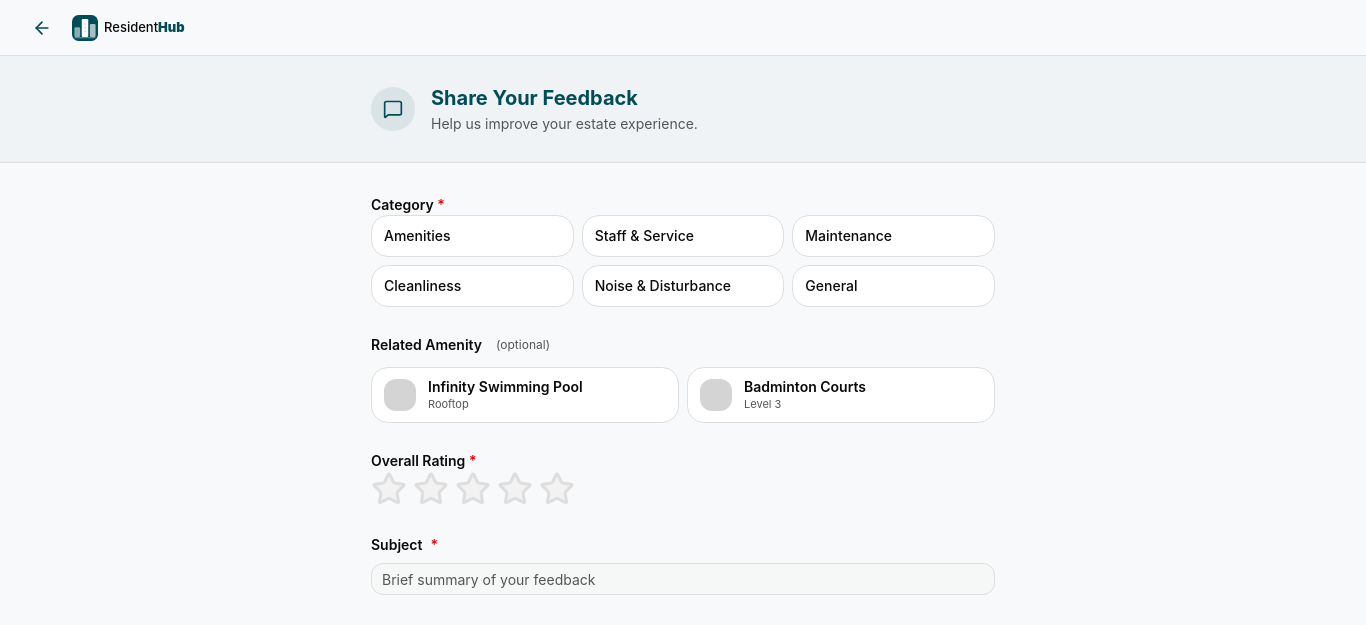
Test: FeedbackPage › shows the Clear button when an amenity is selected
Click the radio button labelled "Infinity Swimming Pool Rooftop": click(525, 395) [371,367,679,423]
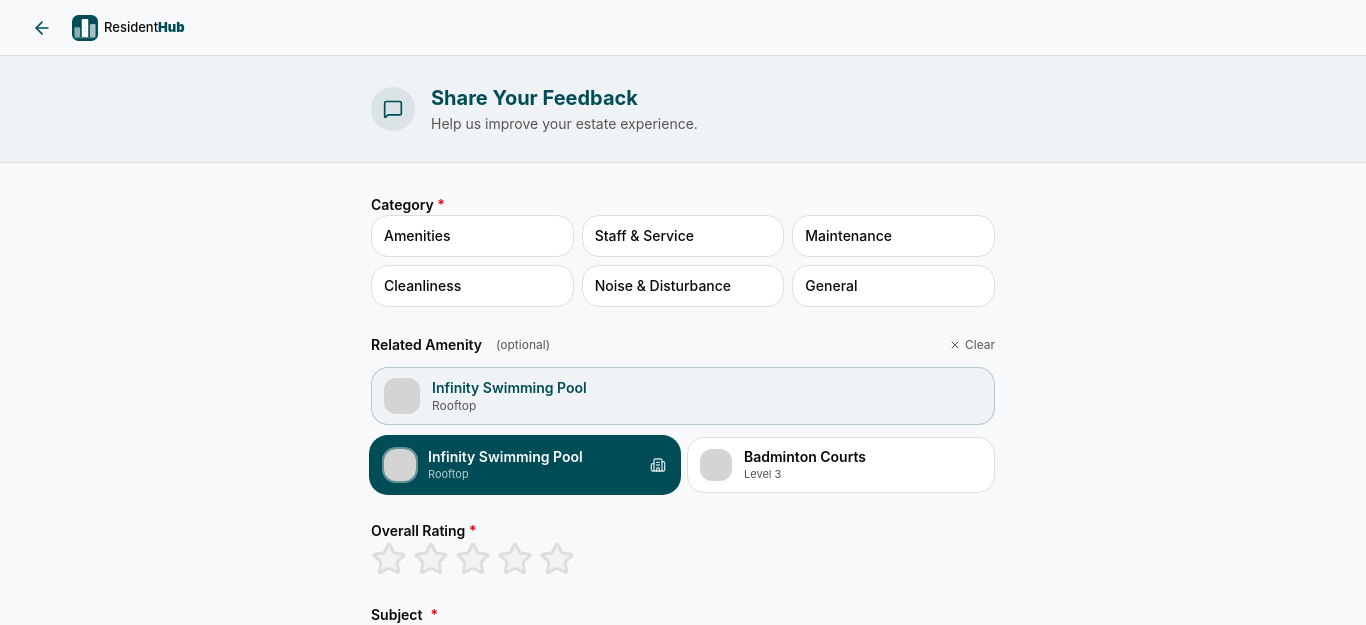
expect the button with aria-label "clear amenity selection" is shown: met, box [949,337,995,353]
